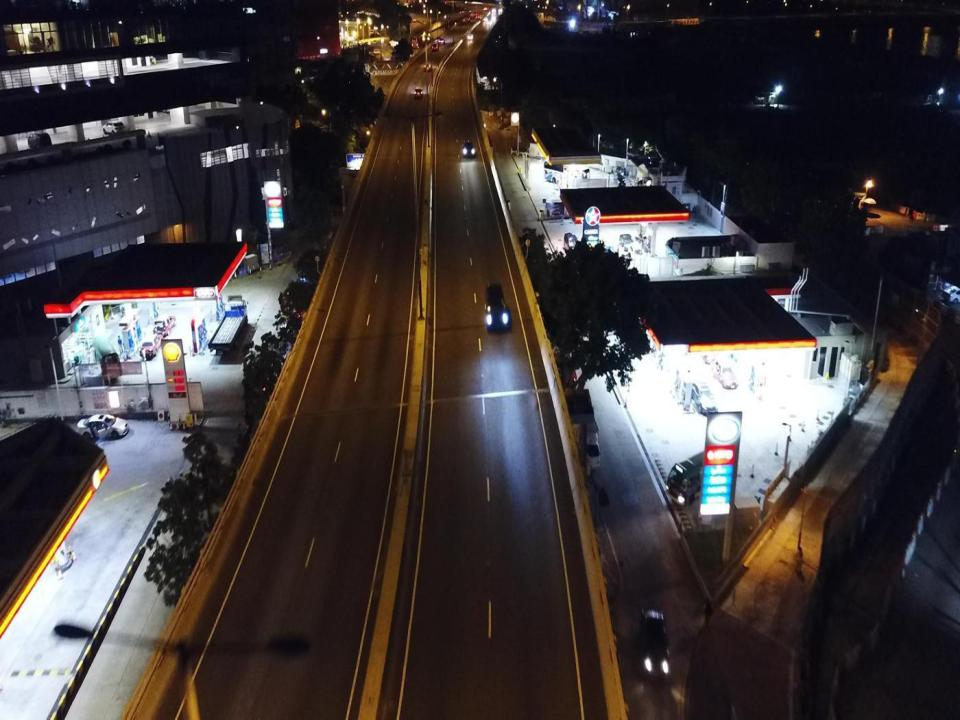bus: (665, 445, 726, 504), (543, 159, 590, 190), (92, 335, 123, 380), (412, 36, 430, 49)
car: (640, 608, 670, 677), (483, 278, 510, 332), (76, 414, 129, 440), (689, 379, 718, 415), (710, 358, 738, 389), (582, 424, 600, 469), (140, 333, 163, 358), (153, 314, 175, 336), (102, 120, 126, 136), (461, 136, 476, 161), (942, 284, 960, 304), (619, 234, 634, 250), (414, 86, 423, 98), (466, 33, 474, 41), (438, 37, 445, 44), (413, 19, 417, 23)
truck: (208, 294, 247, 356)
van: (27, 132, 51, 150), (564, 232, 580, 257), (614, 174, 625, 187), (424, 62, 432, 73), (431, 43, 438, 51)
